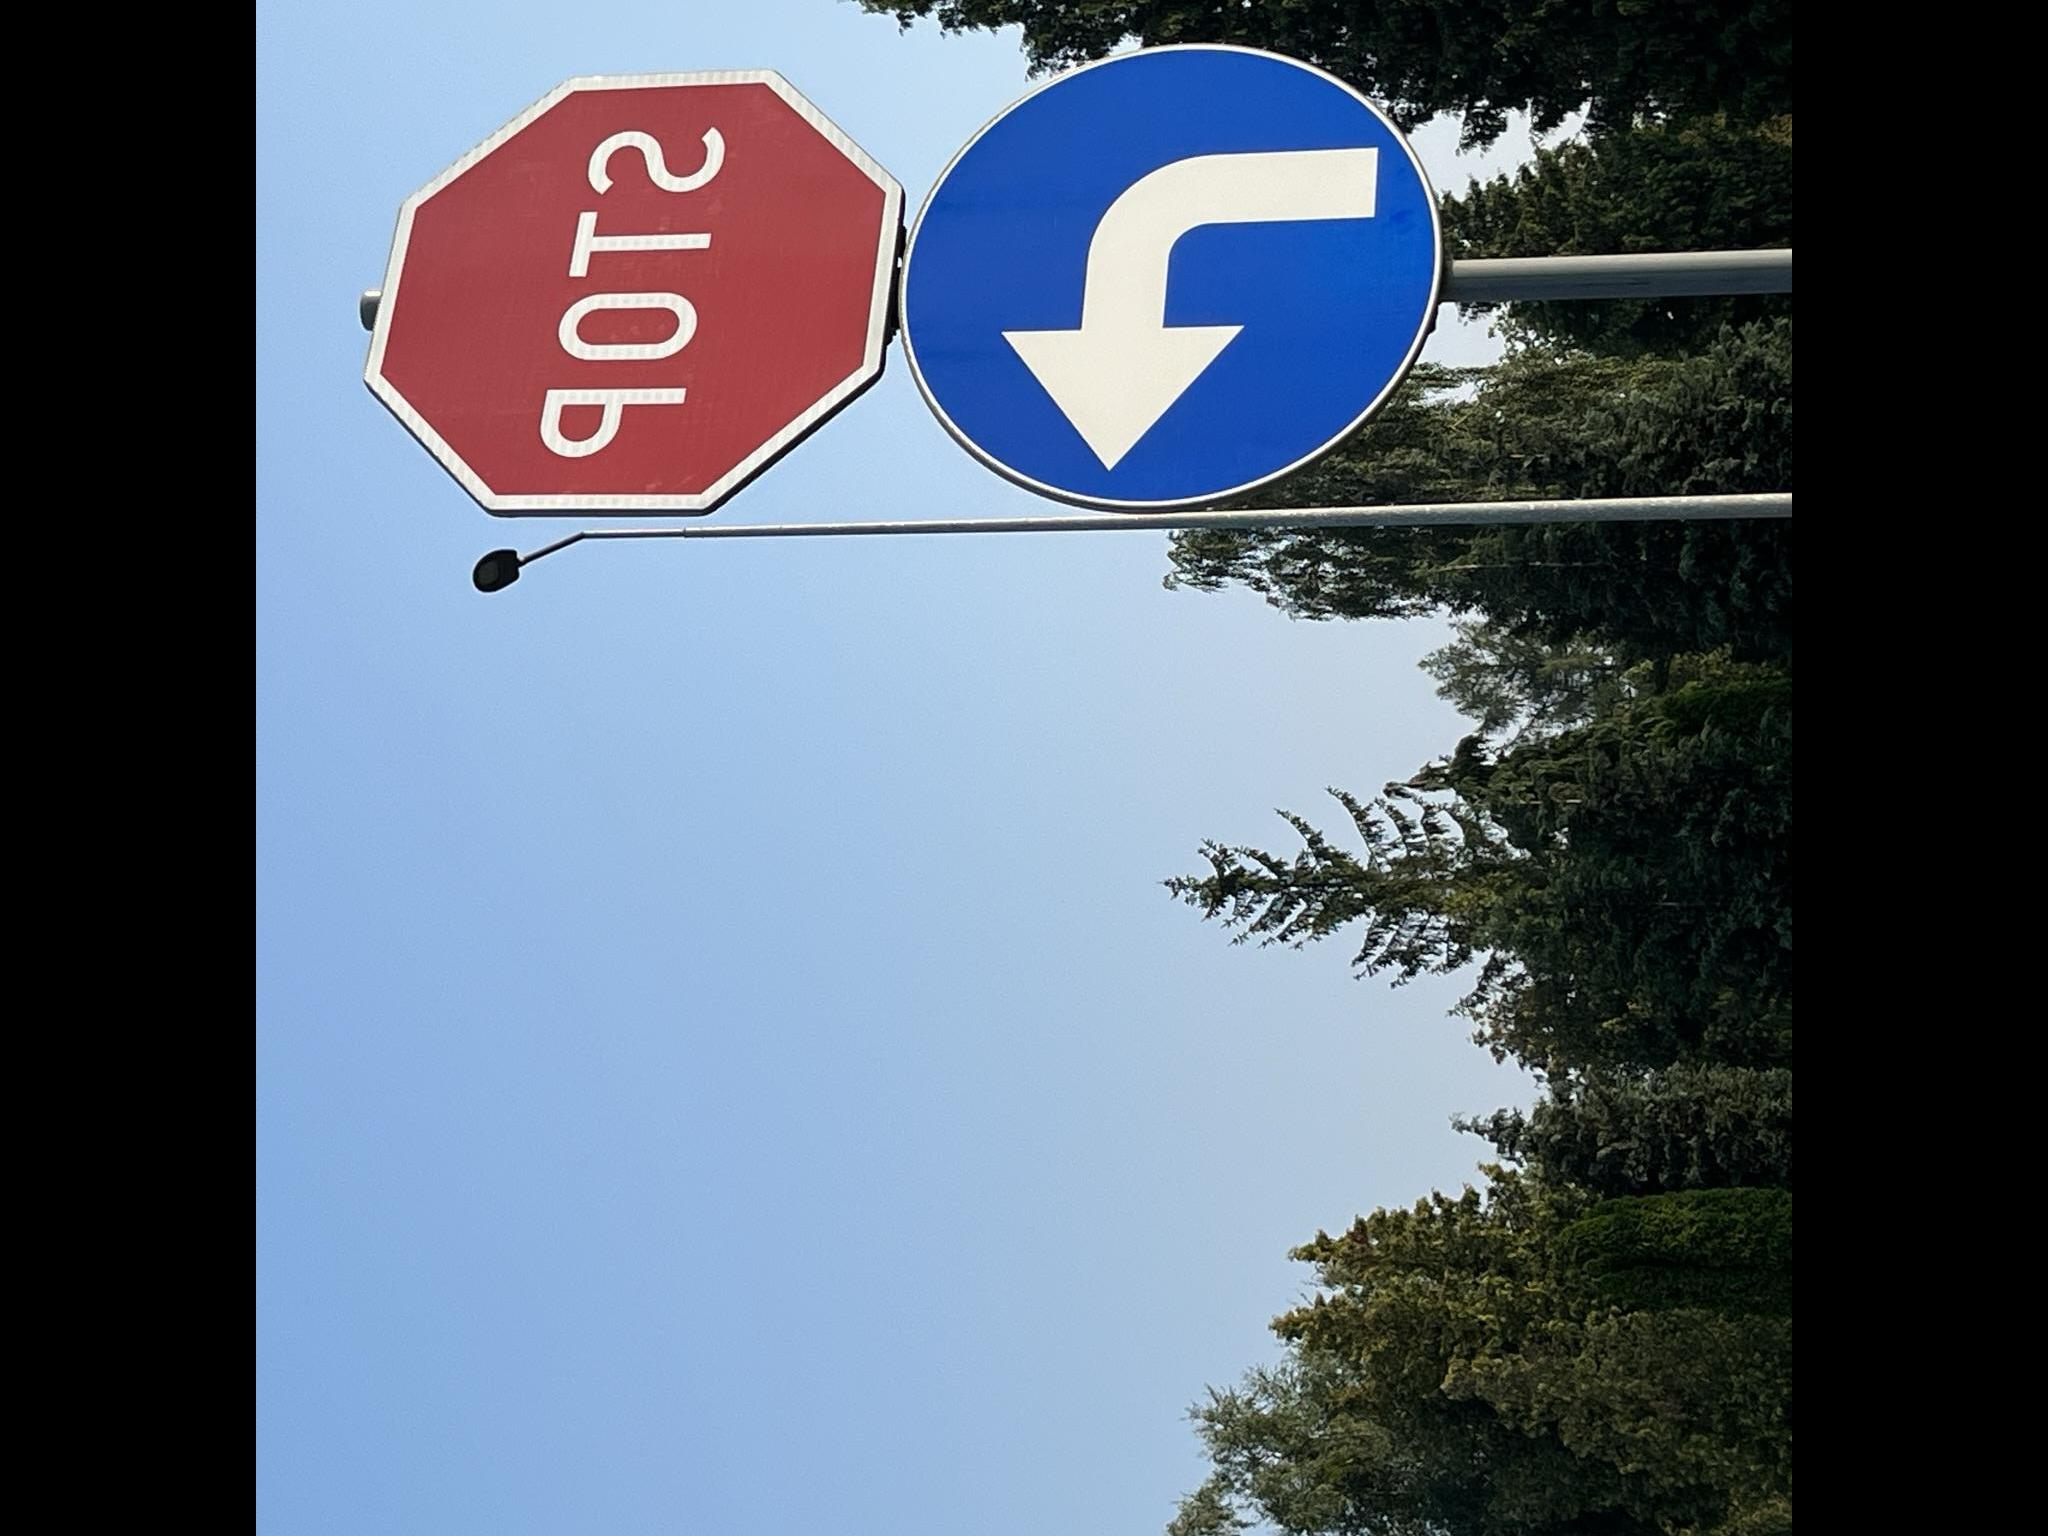mandatory: (898, 40, 1450, 508)
prohibitory: (364, 69, 901, 516)
